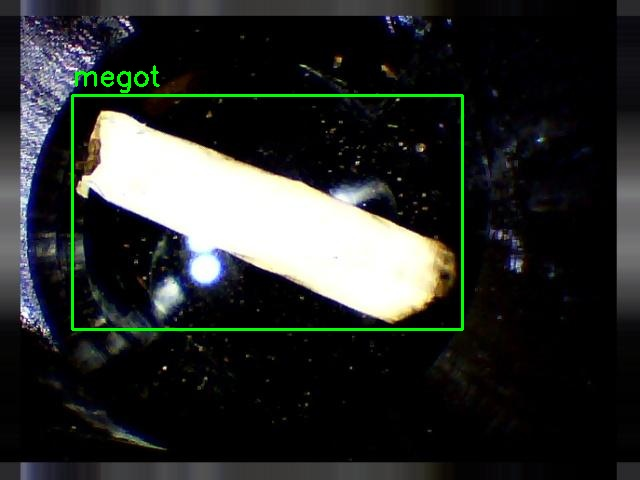megot: (72, 95, 462, 329)
